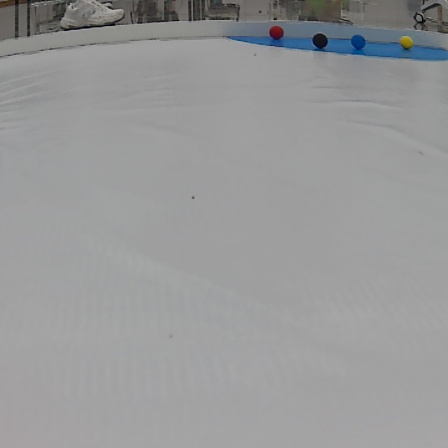black: (313, 33, 330, 49)
blue: (349, 33, 368, 53)
blue_base: (223, 30, 448, 66)
red: (270, 23, 284, 41)
yellow: (395, 32, 418, 55)
